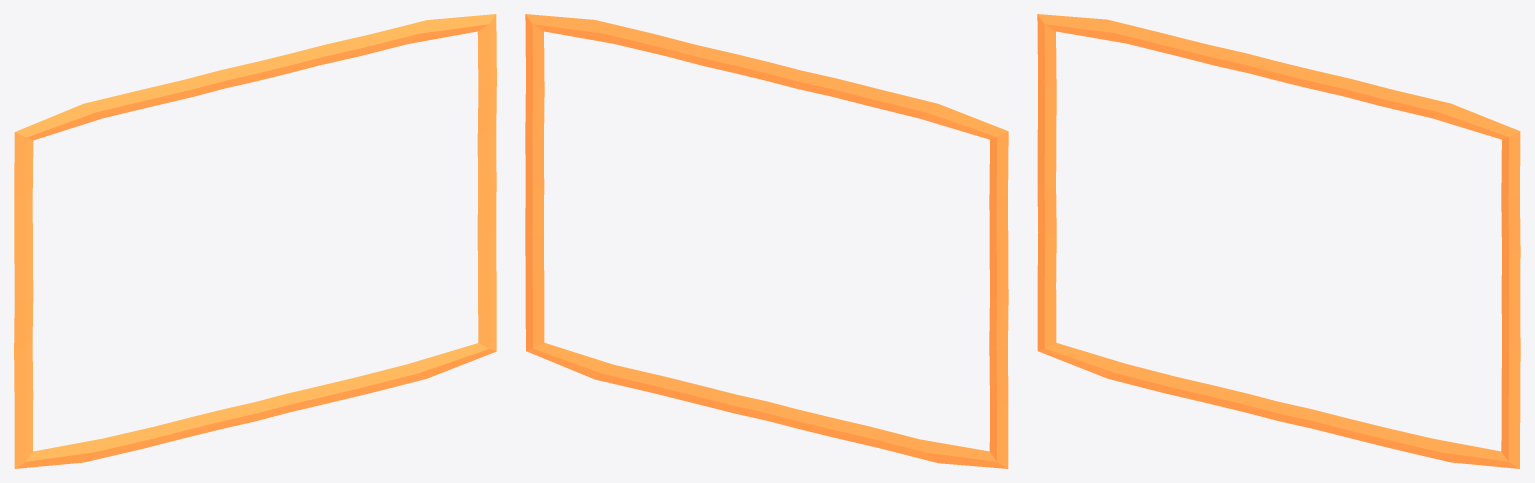
Rendered from proboina-shov.glb.
The picture shows the model from 3 angles, left to right: view 1: azimuth 30°, elevation 25°; view 2: azimuth 150°, elevation 25°; view 3: azimuth 330°, elevation 25°; orthographic projection.
Parts seen in each view (by area): view 1: proboina-shov; view 2: proboina-shov; view 3: proboina-shov.
Part boxes in pixels (bbox=[...]): proboina-shov: bbox=[14, 14, 496, 468]; proboina-shov: bbox=[525, 14, 1008, 468]; proboina-shov: bbox=[1037, 14, 1520, 468].
Bounding box in the file's own units: 0.52 × 0.37 × 0.0094.
Materials: 1 (1 with a texture image).
